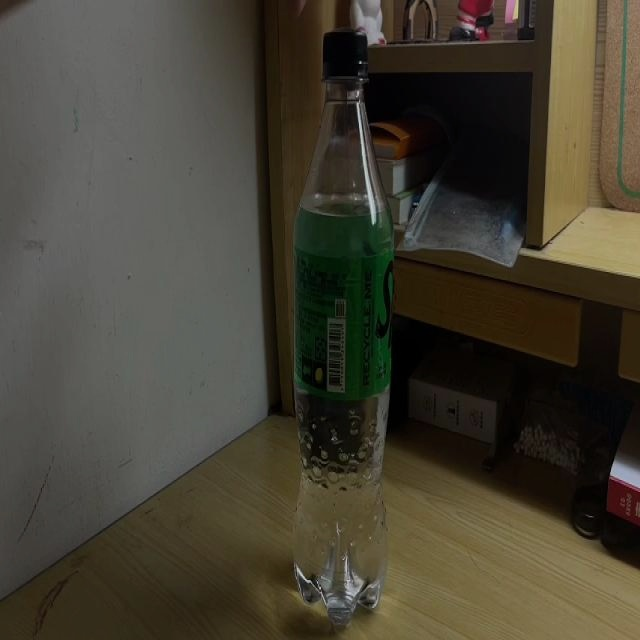Sprite: (296, 35, 392, 620)
